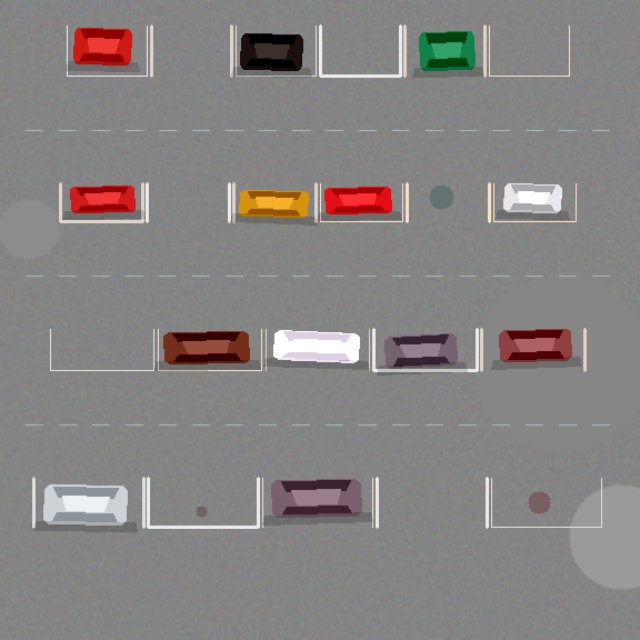space-empty: (148, 478, 258, 527), (377, 478, 487, 527), (491, 478, 601, 527), (50, 329, 153, 370), (151, 26, 231, 76), (320, 26, 400, 76), (489, 26, 569, 76), (147, 183, 229, 221), (407, 183, 489, 221)
space-occupied: (33, 478, 143, 527), (262, 478, 372, 527), (373, 329, 477, 370), (158, 329, 261, 370), (266, 329, 369, 370), (481, 329, 584, 370), (67, 26, 147, 76), (236, 26, 316, 76), (404, 26, 484, 76), (233, 183, 316, 221), (493, 183, 576, 221), (60, 183, 142, 221), (320, 183, 402, 221)
